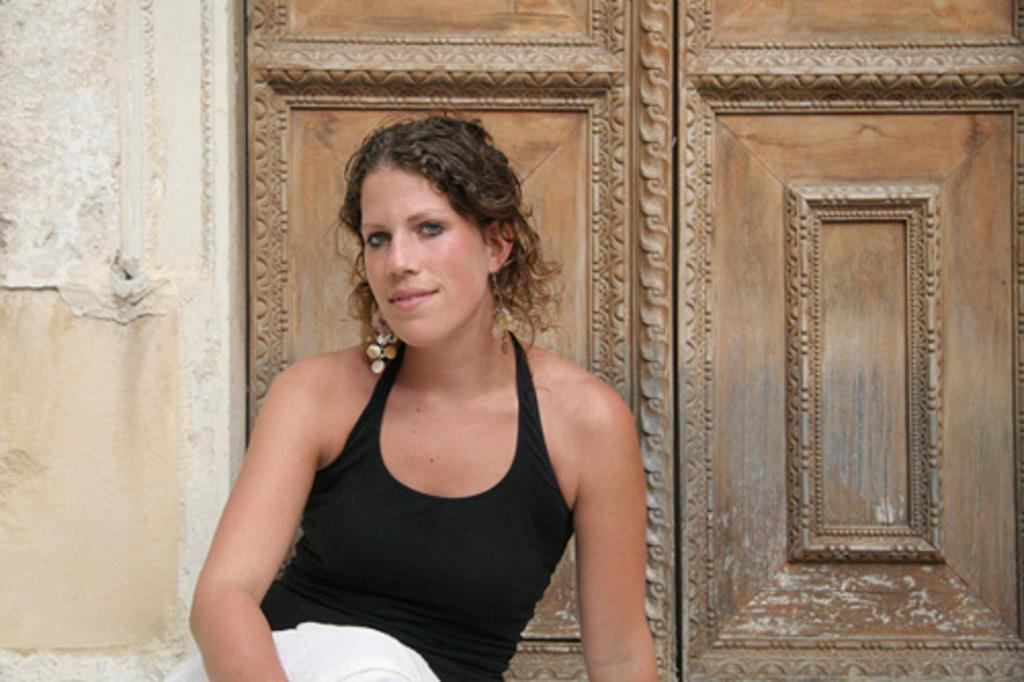Sem Máscara: (356, 166, 489, 343)
